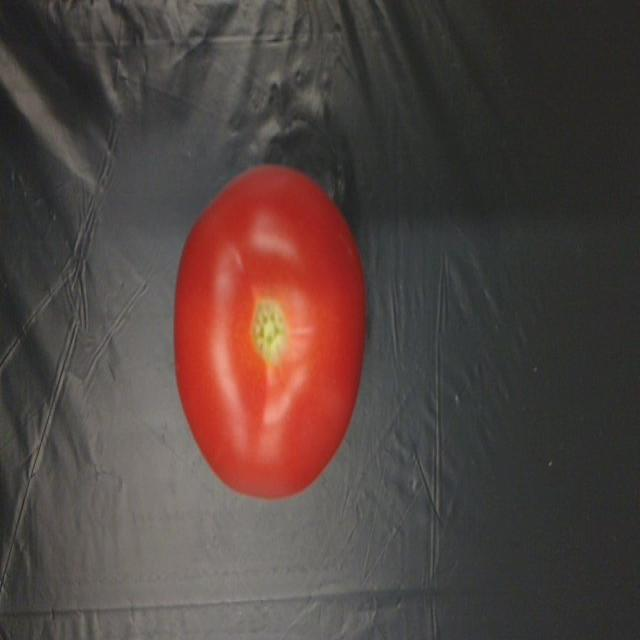kirmizi: (158, 162, 376, 507)
